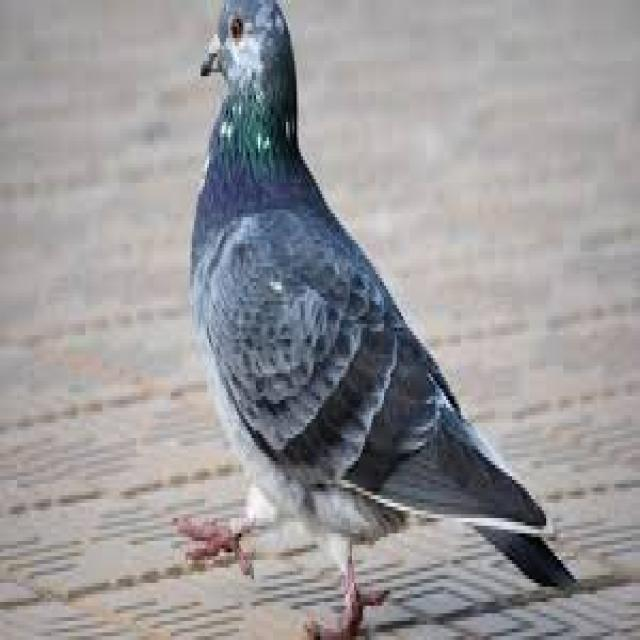pigeon: (172, 0, 560, 640)
